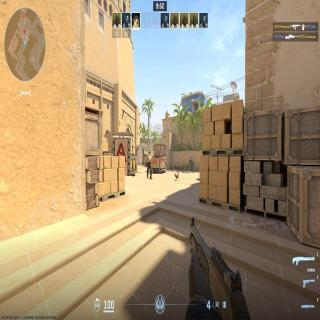T-Body: (145, 150, 155, 180)
T-Head: (148, 149, 151, 156)
